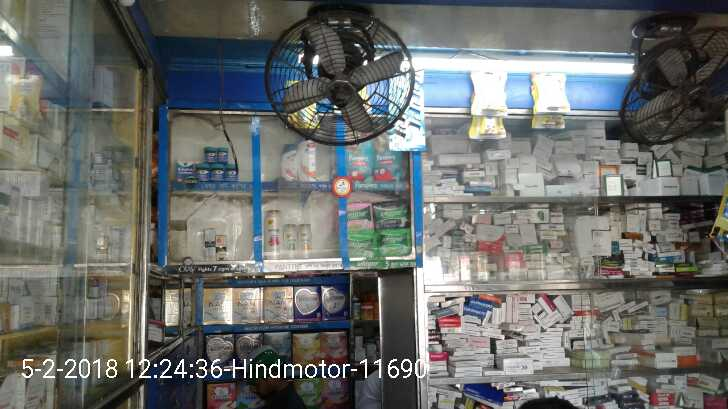vicks: (174, 142, 238, 186)
